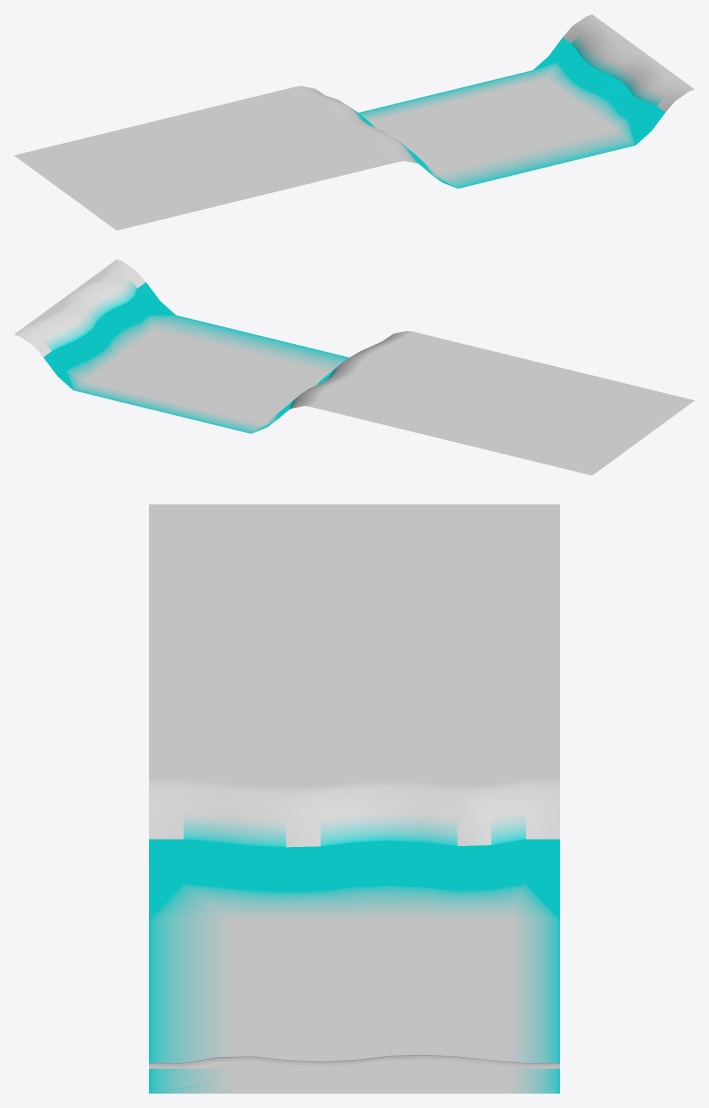
Rendered from Side-forest-water_mid_01.glb.
The picture shows the model from 3 angles, top to bottom: view 1: azimuth 30°, elevation 25°; view 2: azimuth 150°, elevation 25°; view 3: azimuth 270°, elevation 25°; orthographic projection. The views are drawn at different scales.
Parts seen in each view (by area): view 1: Side-forest-water_mid_01; view 2: Side-forest-water_mid_01; view 3: Side-forest-water_mid_01.
Part boxes in pixels (x1=…): Side-forest-water_mid_01: x1=14, y1=14, x2=694, y2=230; Side-forest-water_mid_01: x1=14, y1=259, x2=694, y2=475; Side-forest-water_mid_01: x1=149, y1=504, x2=559, y2=1093.
Bounding box in the file's own units: 58.5 × 4 × 18.
